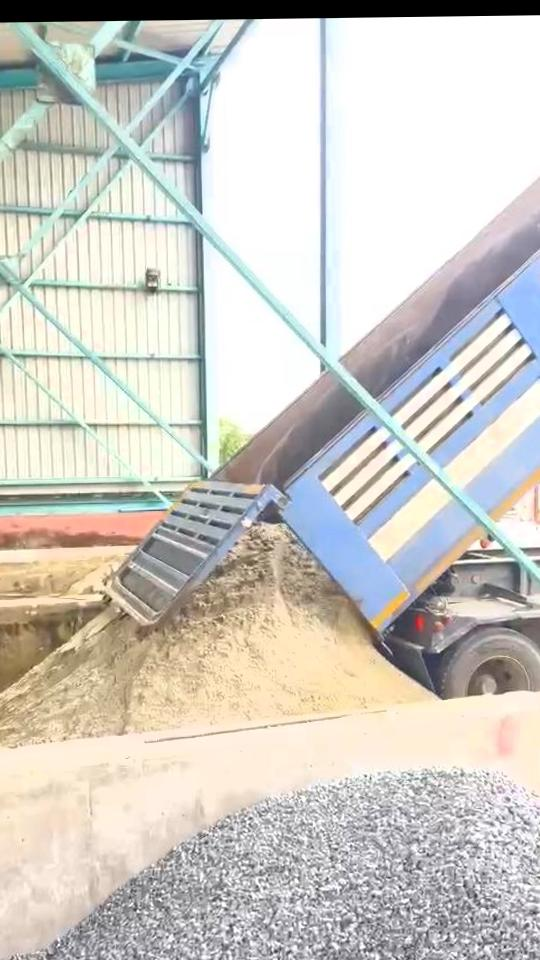gravel: (28, 769, 540, 960)
sand: (0, 525, 432, 750), (69, 556, 122, 595)
